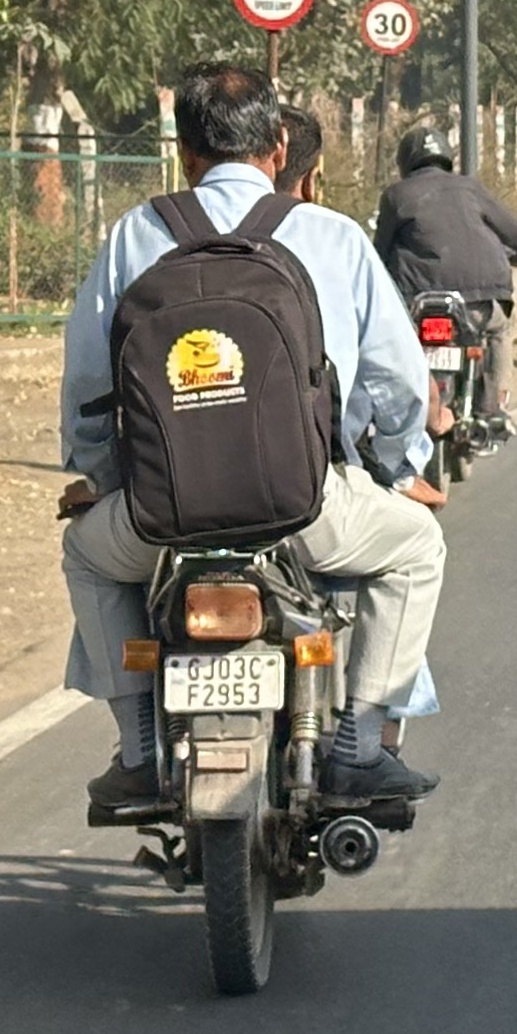BikeWithRider: (38, 50, 462, 1003), (355, 120, 517, 523)
Helmet: (387, 120, 461, 194)
NoHelmet: (162, 56, 294, 205), (227, 96, 332, 220)
